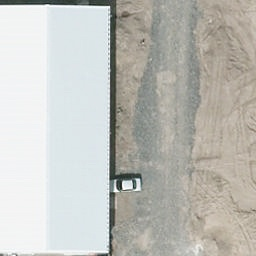car: (104, 178, 142, 194)
